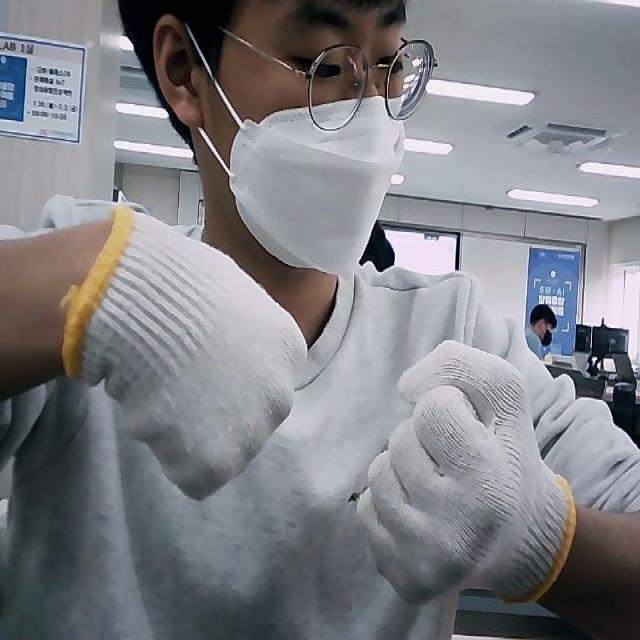gloves: (61, 204, 308, 496), (354, 337, 574, 606)
